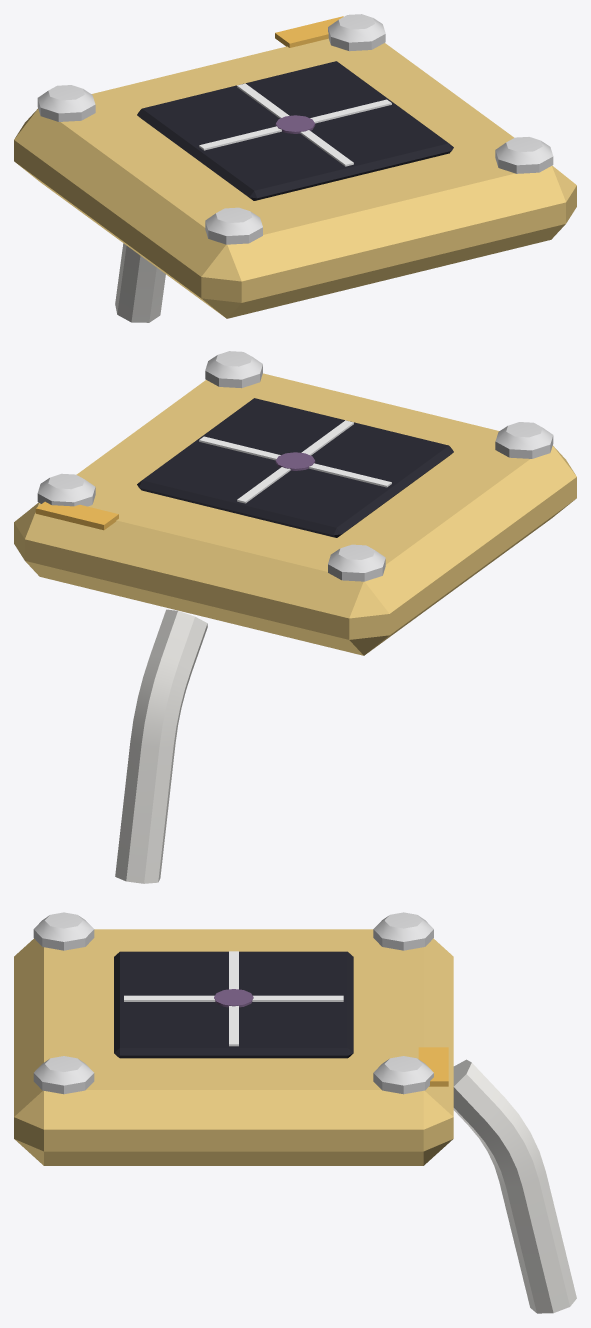
The model's file is sun_sensor.glb.
3 views of the same model, one above another, from view 1: azimuth 30°, elevation 25°; view 2: azimuth 150°, elevation 25°; view 3: azimuth 270°, elevation 25° (orthographic).
Parts seen in each view (by area): view 1: sun_sensor; view 2: sun_sensor; view 3: sun_sensor.
Part boxes in pixels (x1,y1,x2,y2): sun_sensor: (14,14,576,322); sun_sensor: (14,351,576,883); sun_sensor: (14,912,576,1313).
Size of the model in its own units: 0.022 by 0.0175 by 0.0282.
